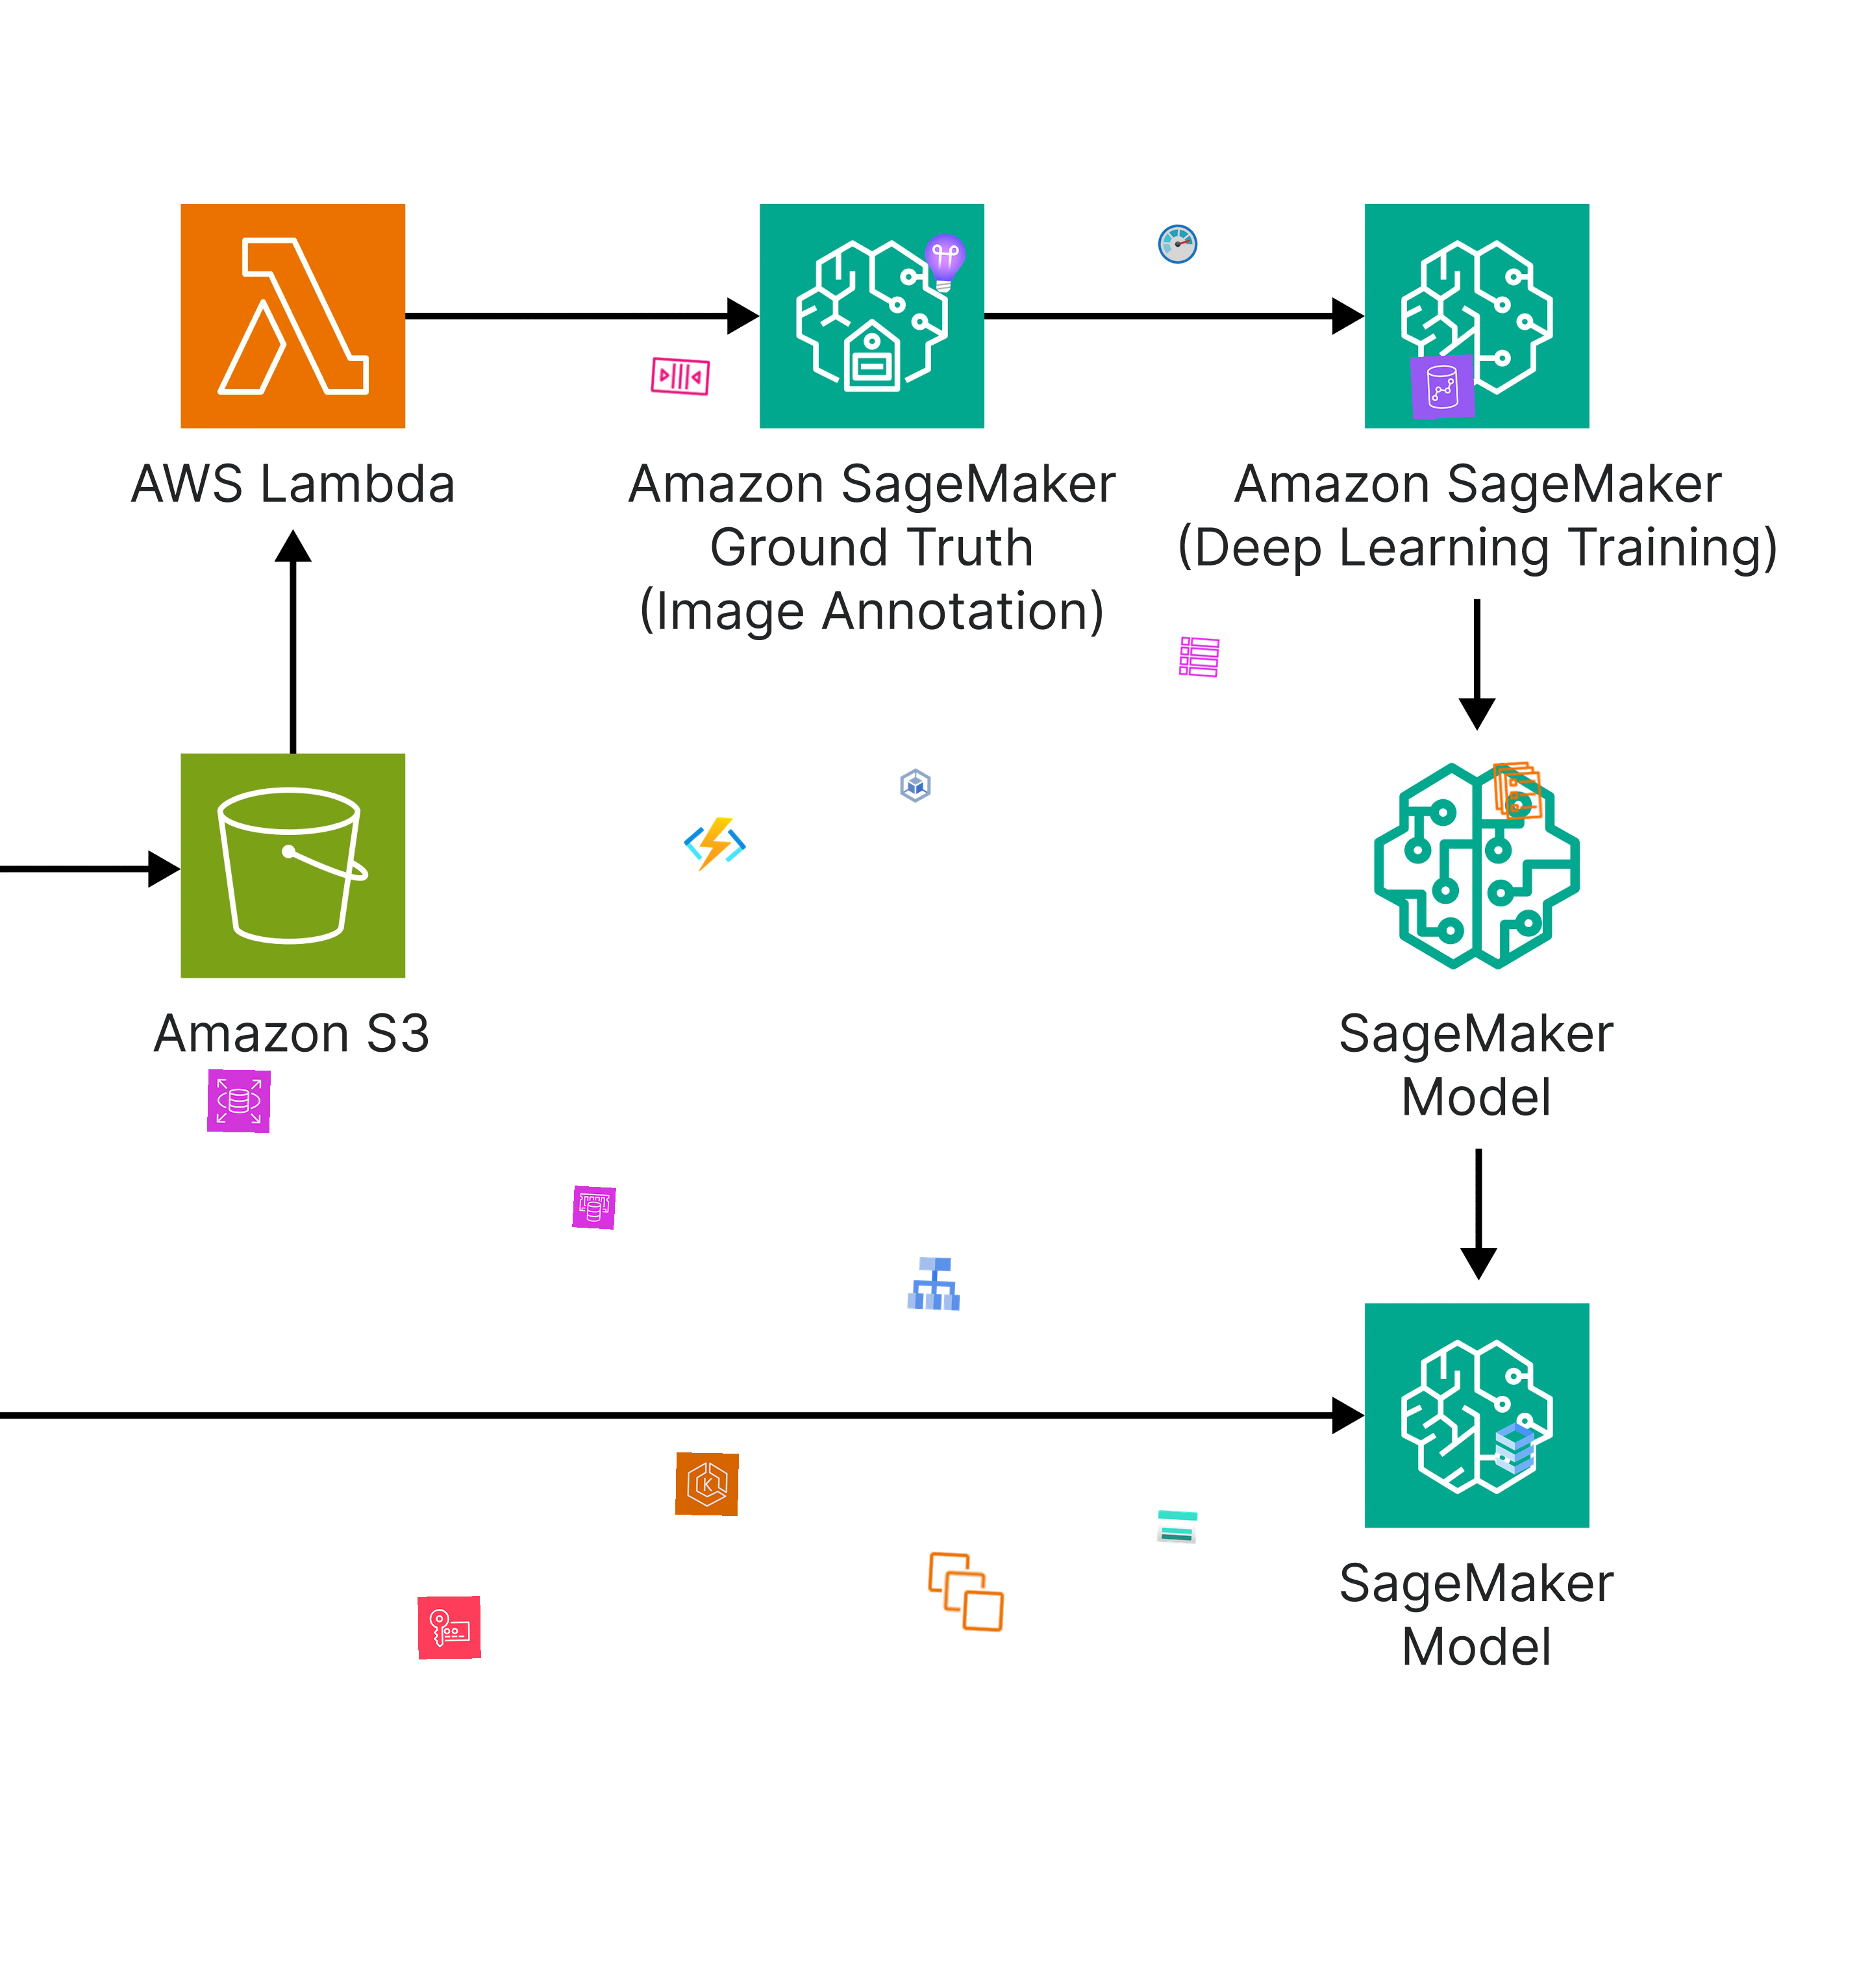aws_amazon_elastic_kubernetes_service: (675, 1452, 740, 1517)
aws_amazon_elasticache: (571, 1185, 617, 1230)
aws_amazon_rds: (207, 1069, 271, 1134)
aws_amazon_redshift: (1410, 353, 1476, 420)
aws_dynamodb_table: (1176, 635, 1221, 680)
aws_ec2_instances: (923, 1549, 1011, 1636)
aws_elastic_container_service_service: (1485, 758, 1552, 824)
aws_key_management_service: (418, 1596, 482, 1659)
aws_simple_queue_service_queue: (647, 343, 714, 410)
azure_application_insights: (912, 230, 977, 295)
azure_function_apps: (682, 810, 749, 879)
azure_monitor: (1155, 221, 1200, 267)
azure_storage_accounts: (1155, 1505, 1199, 1549)
gcp_cloud_load_balancing: (902, 1252, 967, 1317)
gcp_cloud_sql: (1483, 1417, 1547, 1480)
gcp_google_kubernetes_engine: (895, 765, 937, 807)
